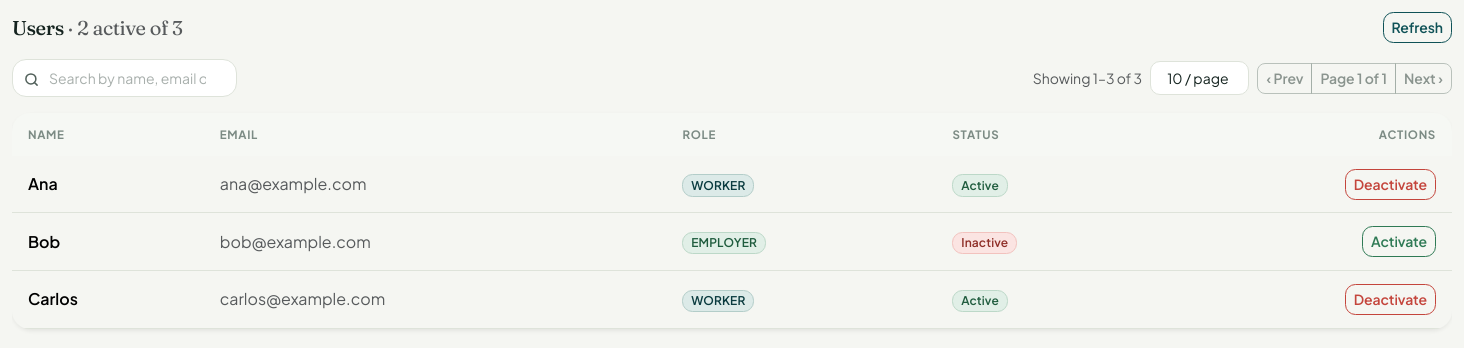
Test: UserManagement › shows a toast when the toggle fails
Expected: the text "Ana" is shown, [12, 156, 204, 213]
Click the button with test id "toggle-1".
click(1390, 184)  # box [1345, 169, 1436, 200]
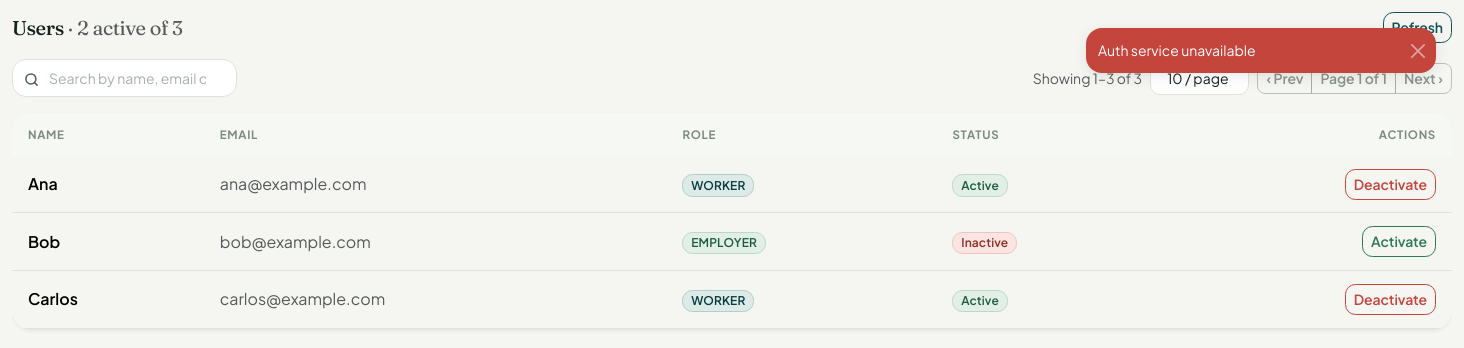
Expected: the text "Auth service unavailable" is shown, [1098, 41, 1256, 59]
